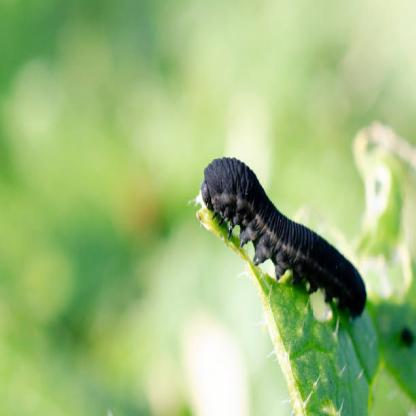sawfly: (197, 150, 372, 326)
